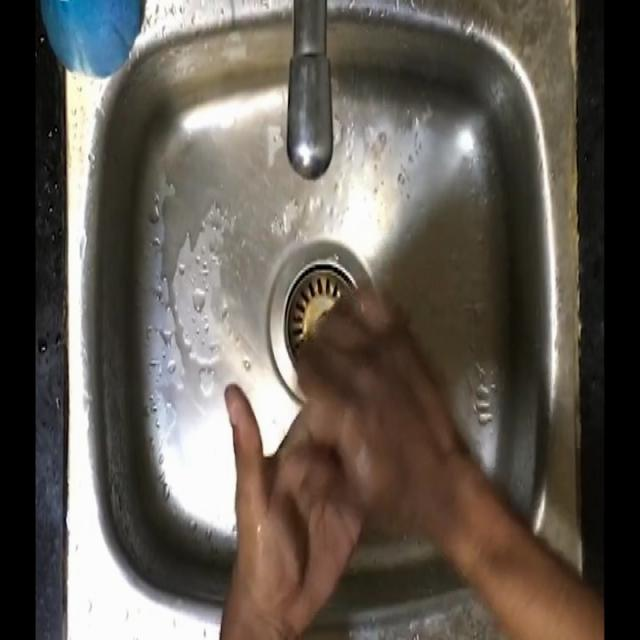step_5: (216, 272, 457, 632)
